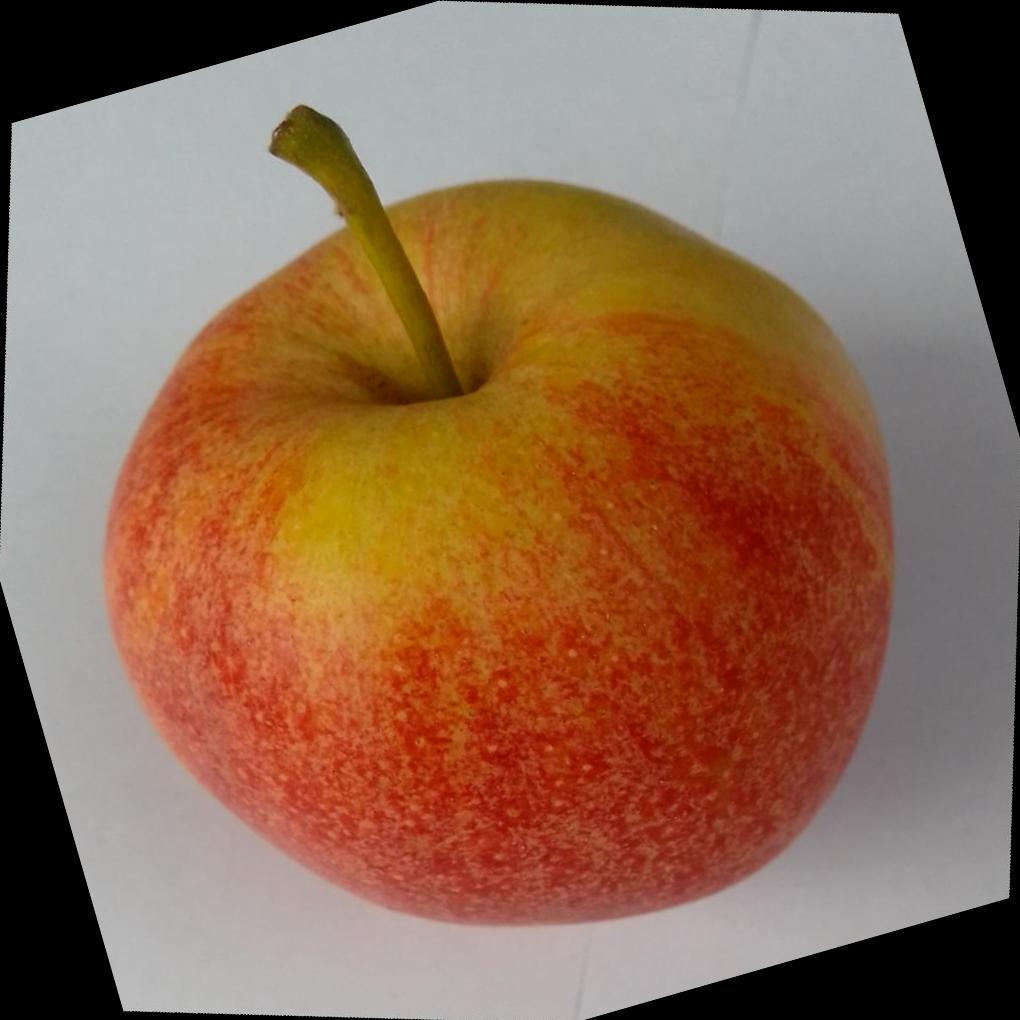FreshGuava: (101, 107, 894, 930)
